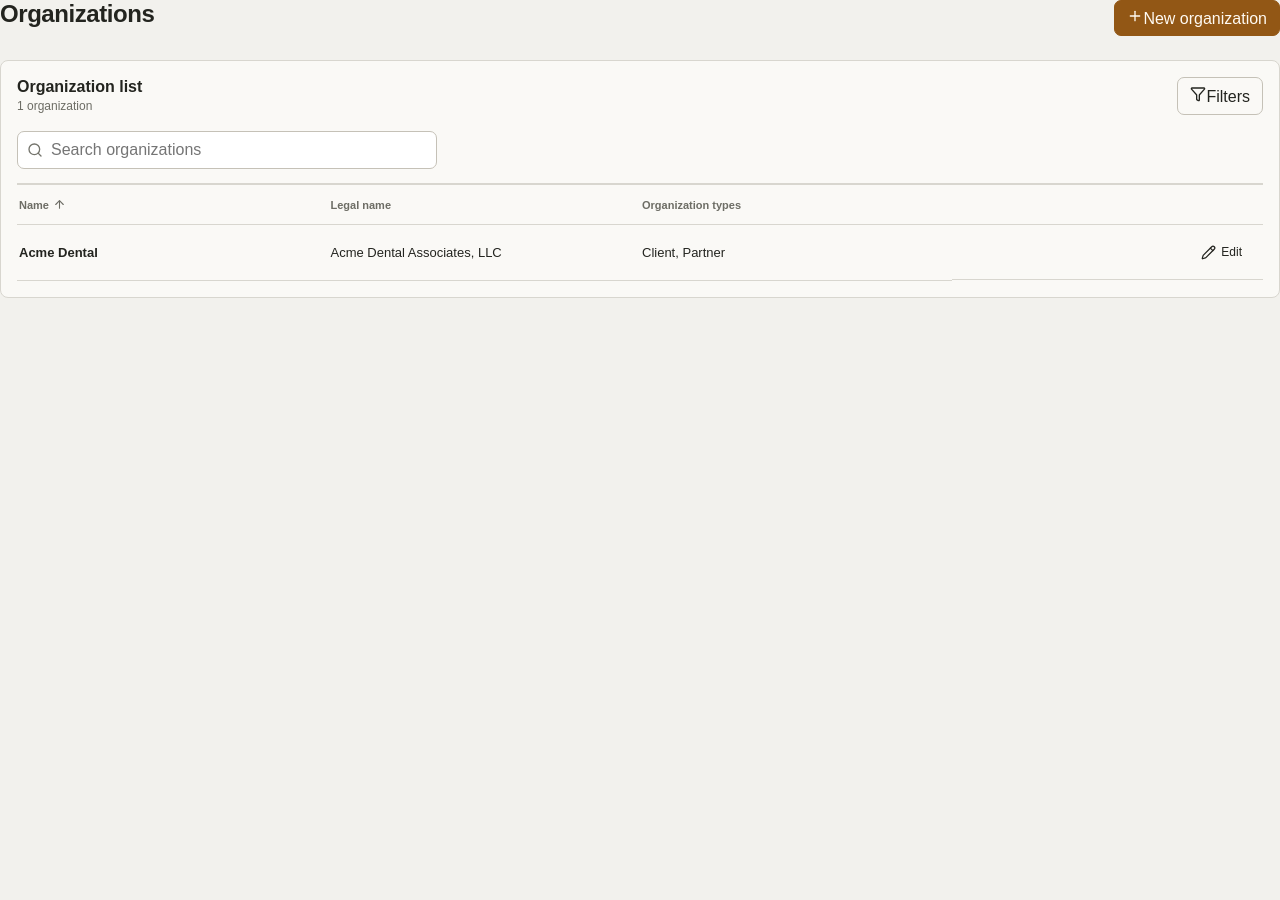
Test case: Organizations › edits dedicated billing identity without changing general details
Click the button "Acme Dental" at (58, 252), box [19,245,98,260]
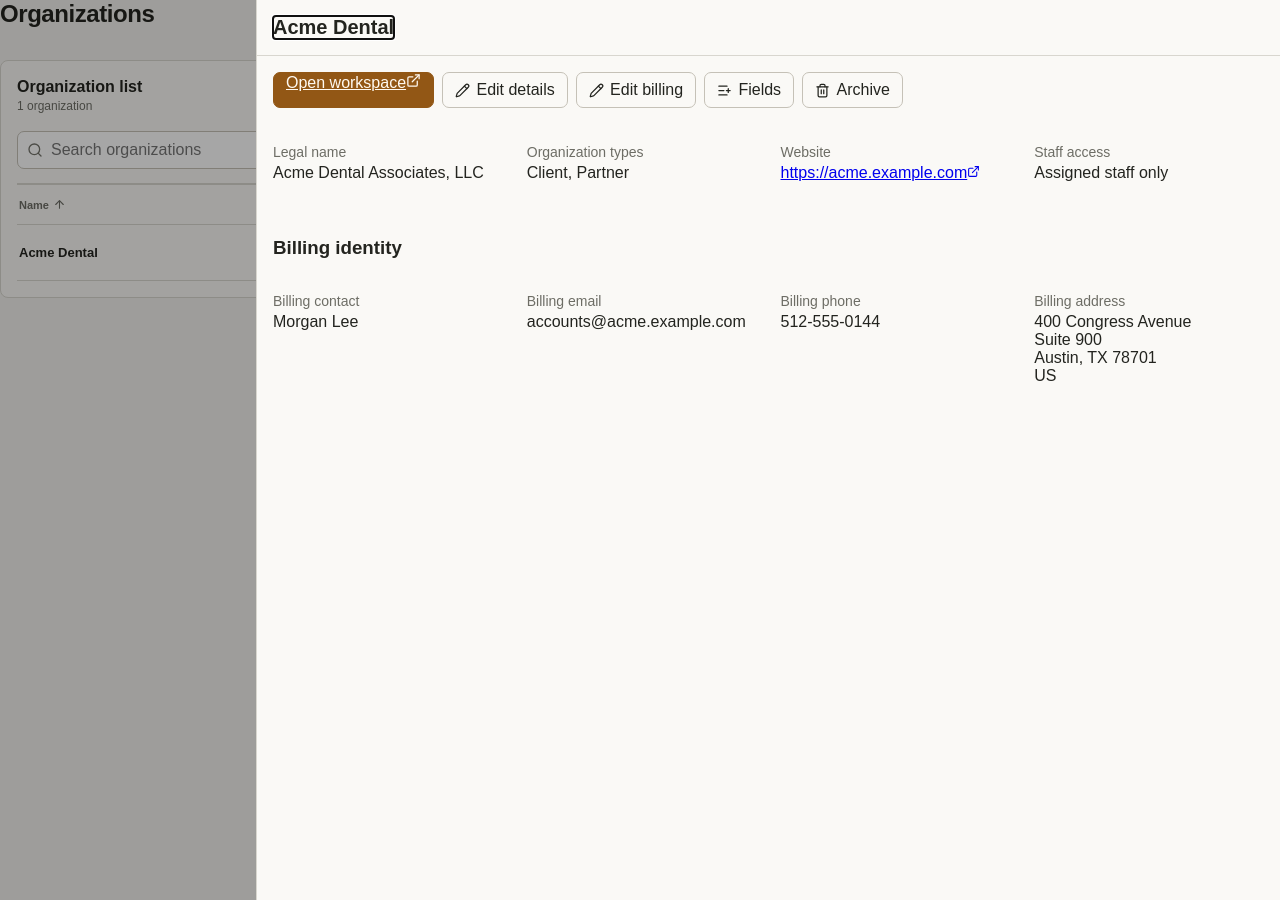
Expected: the text "accounts@acme.example.com" is shown, [527,313,757,331]
Expected: the text "400 Congress Avenue" is shown, [1034,313,1192,330]
Click the button "Edit billing" at (636, 90), box [576,72,696,108]
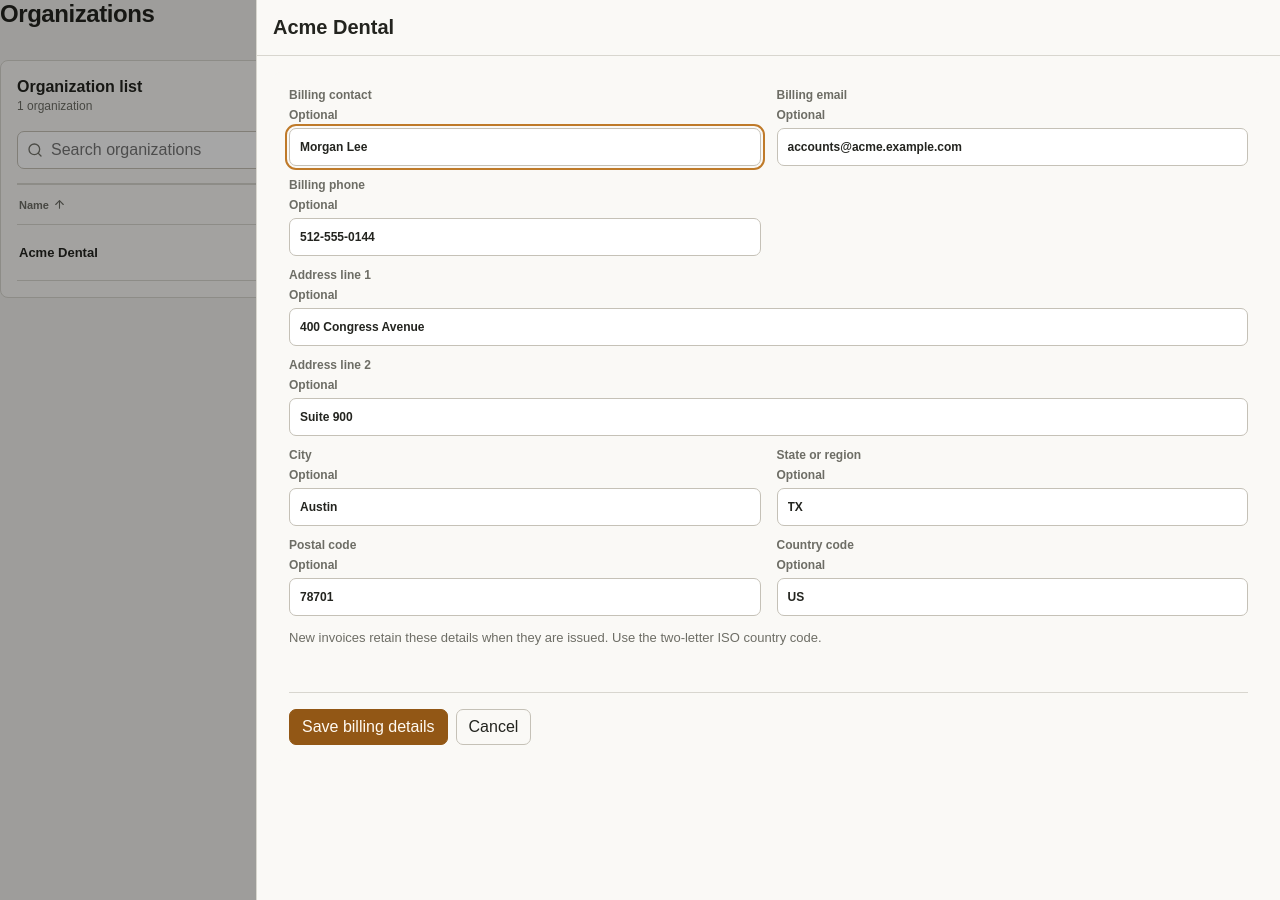
Replace the text in the field labelled "Billing contact Optional" with "Taylor Morgan" at (525, 147), box [289,128,760,166]
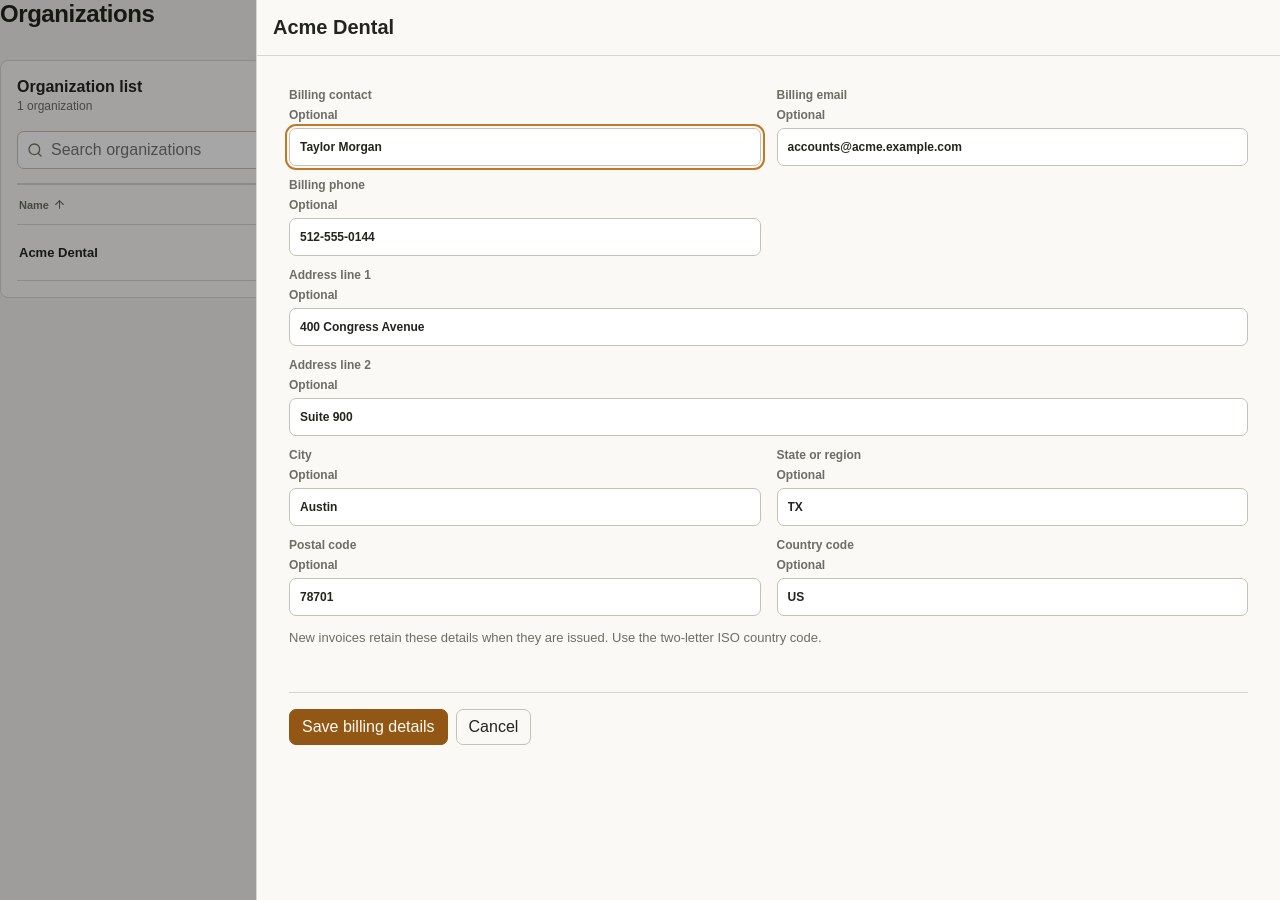
Click the button "Save billing details" at (368, 726), box [289,708,448,744]
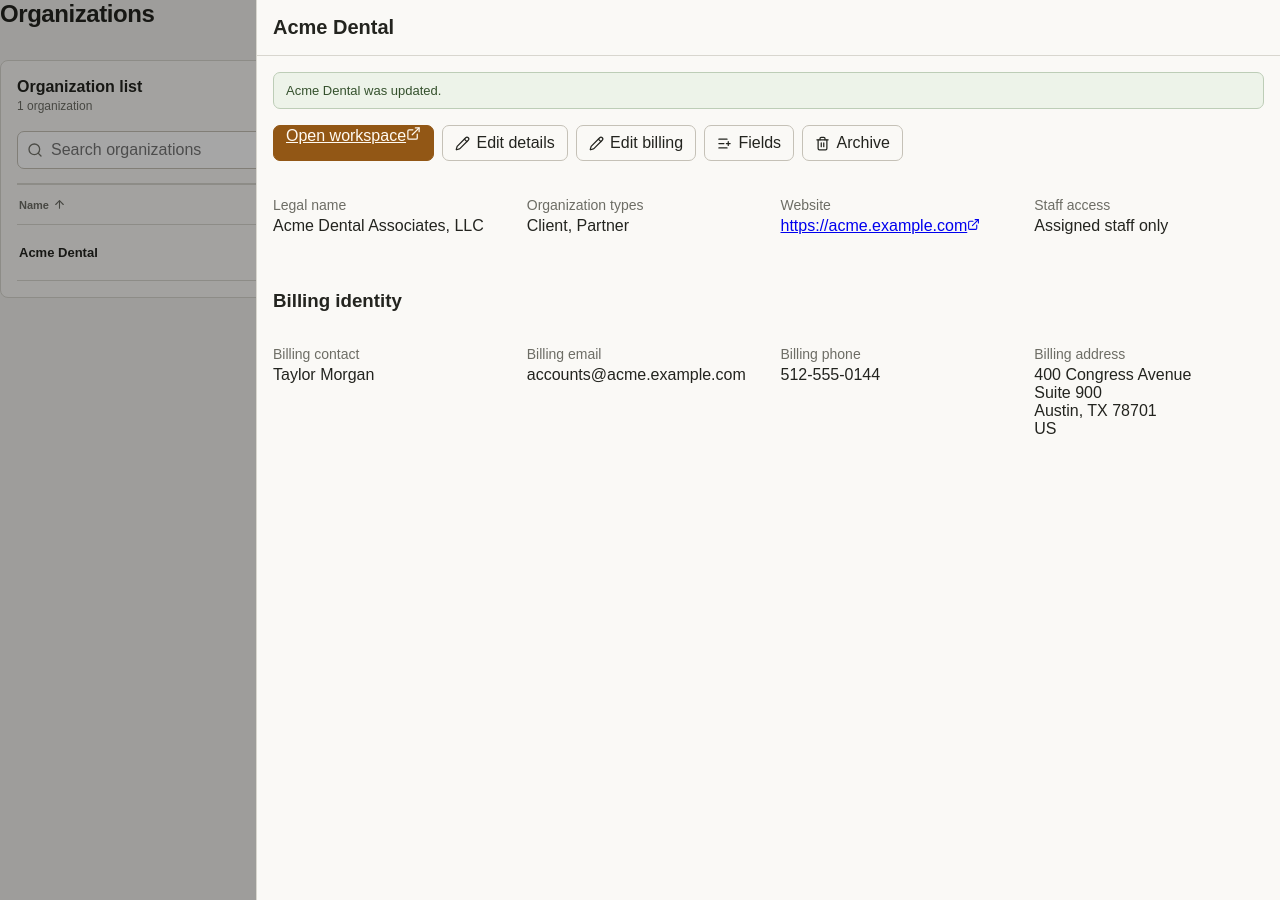
Expected: the text "Taylor Morgan" is shown, [273,366,374,383]
